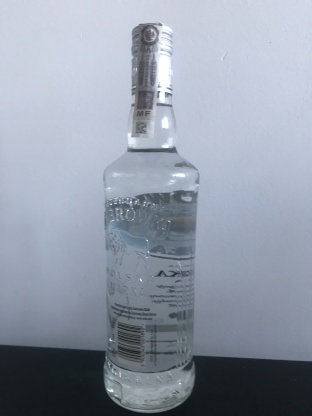nakretka: (128, 17, 175, 99)
